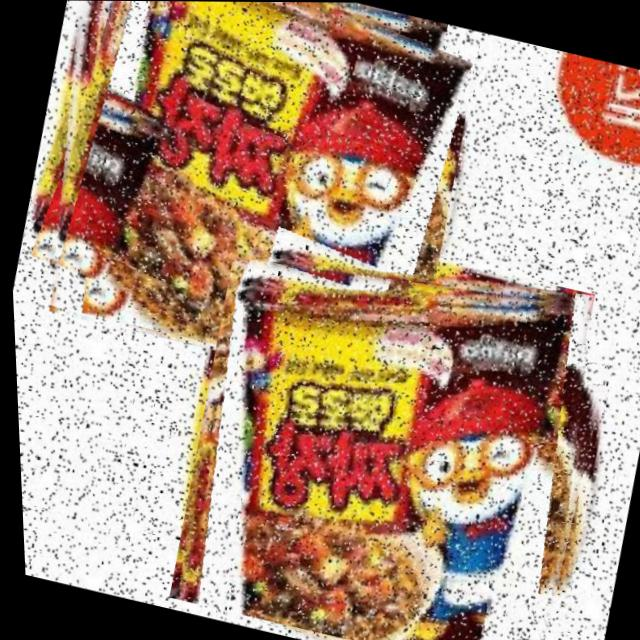Miscellaneous: (148, 220, 628, 640), (4, 0, 493, 391)
